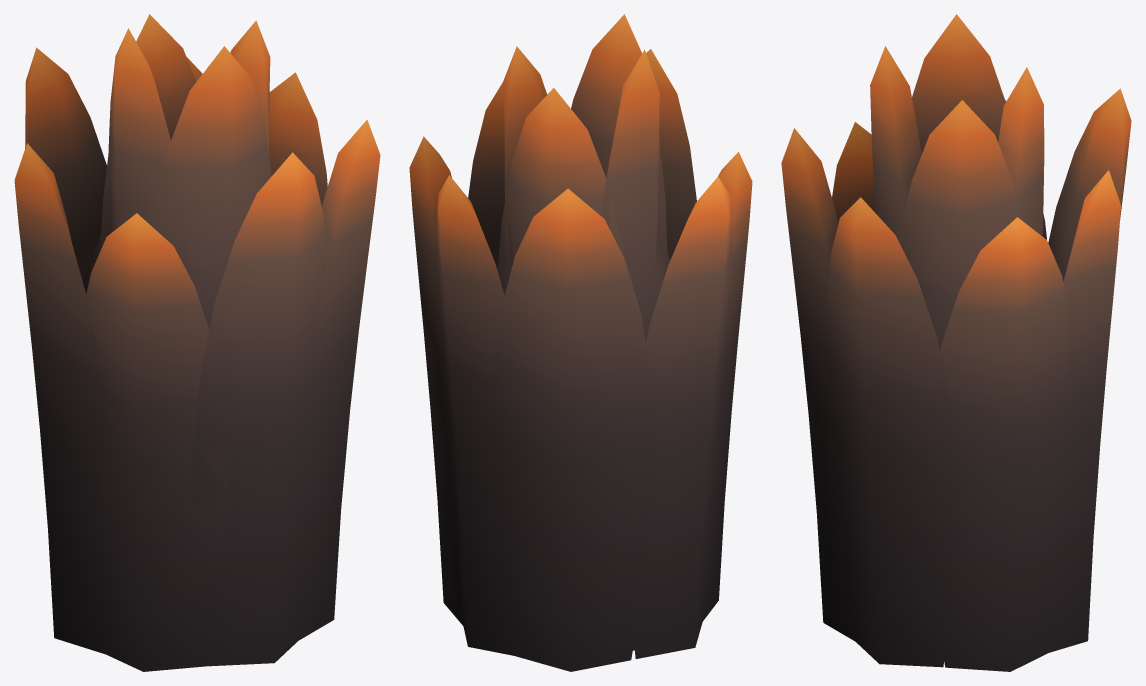
File: EmberTuft.fbx
3 renders of one model, left to right at view 1: azimuth 30°, elevation 25°; view 2: azimuth 150°, elevation 25°; view 3: azimuth 270°, elevation 25°, orthographic. The views are drawn at different scales.
Visible parts, largest first — view 1: EmberTuft; view 2: EmberTuft; view 3: EmberTuft.
Boxes of the visible parts, bbox=[...] form: EmberTuft: bbox=[14, 14, 380, 671]; EmberTuft: bbox=[409, 14, 752, 671]; EmberTuft: bbox=[781, 14, 1131, 671].
Size of the model in its own units: 0.8098 by 1.49 by 0.826.
1 material, 1 textured.
